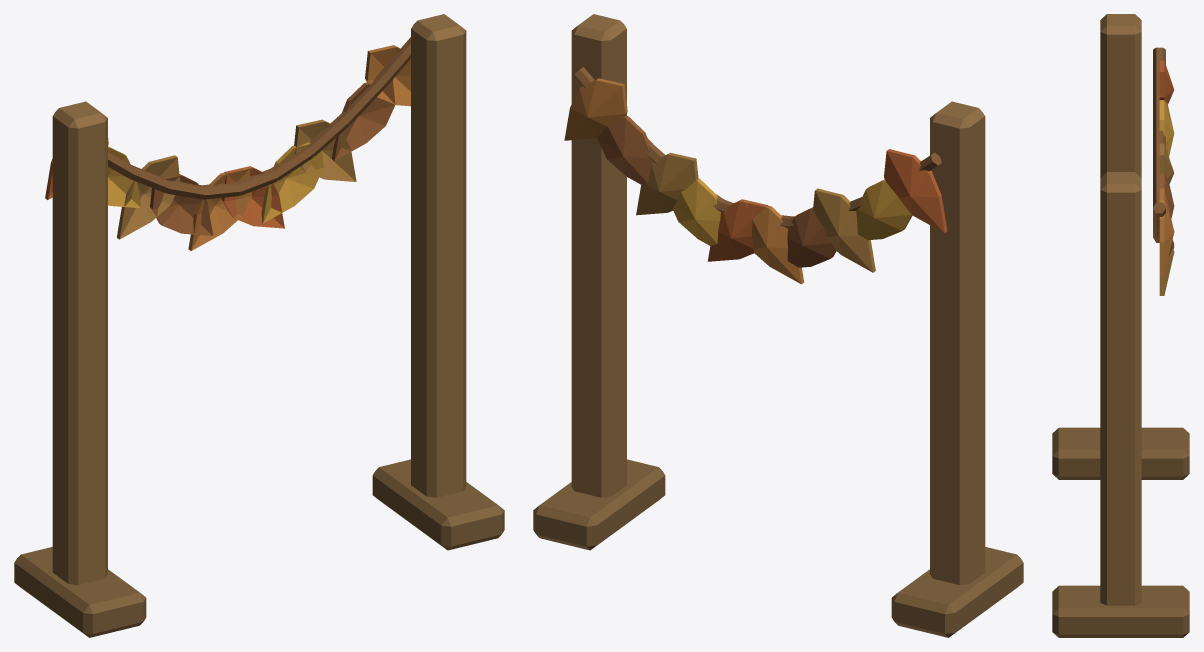
The model's file is AutumnGarland.glb.
The picture shows the model from 3 angles, left to right: view 1: azimuth 30°, elevation 25°; view 2: azimuth 150°, elevation 25°; view 3: azimuth 270°, elevation 25°; orthographic projection. The views are drawn at different scales.
Visible parts, largest first — view 1: AutumnGarland_Support, AutumnGarland_Foliage; view 2: AutumnGarland_Support, AutumnGarland_Foliage; view 3: AutumnGarland_Support, AutumnGarland_Foliage.
Part boxes in pixels (x1,y1,x2,y2): AutumnGarland_Support: [14, 14, 504, 637]; AutumnGarland_Foliage: [45, 37, 410, 250]; AutumnGarland_Support: [533, 14, 1023, 637]; AutumnGarland_Foliage: [564, 67, 947, 284]; AutumnGarland_Support: [1052, 14, 1189, 637]; AutumnGarland_Foliage: [1153, 47, 1174, 295].
Size of the model in its own units: 0.8 by 0.9 by 0.25.
